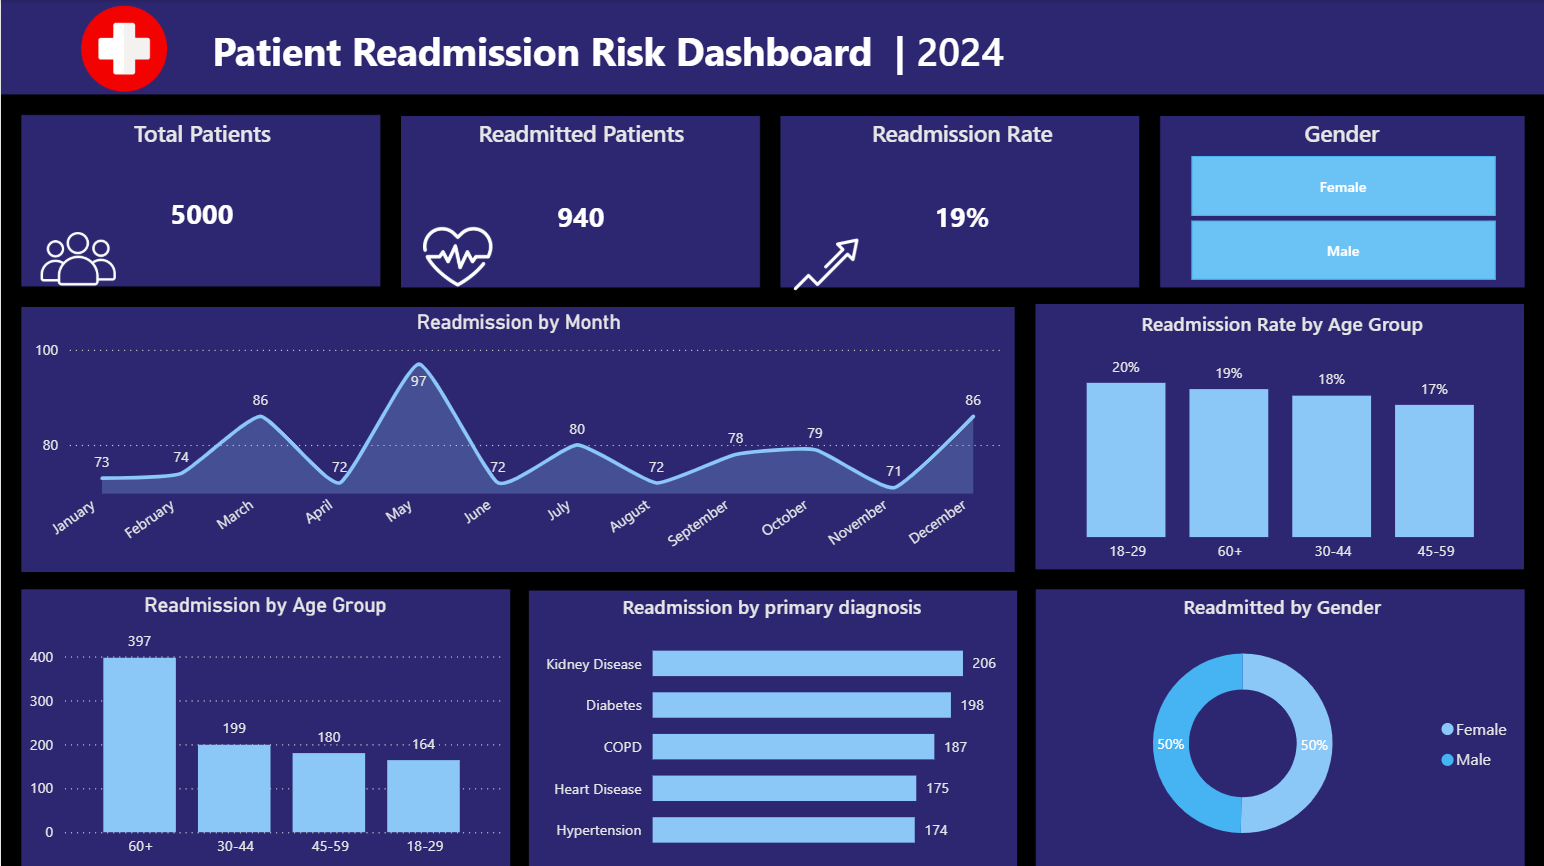

This screenshot's page, from the dashboard's own definition file:
{"tool":"powerbi","page":{"name":"Page 2","canvas":[1280,720],"ordinal":1},"visuals":[{"type":"card","title":"Total Patients","fields":{"Values":["PatientData.Total Patients"]},"box":[18.6,97.6,296.3,141.8],"z":0},{"type":"card","title":"Readmitted Patients","fields":{"Values":["PatientData.Total Readmitted"]},"box":[335.8,97.6,290.5,141.8],"z":1000},{"type":"card","title":"Readmission Rate","fields":{"Values":["PatientData.Readmission Rate"]},"box":[648.4,97.6,296.3,141.8],"z":2000},{"type":"lineChart","title":"Readmission by Month","fields":{"Category":["PatientData.VisitDate.Variation.Date Hierarchy.Month"],"Y":["PatientData.Total Readmitted"]},"box":[20.9,256.8,816.9,218.4],"z":3000},{"type":"clusteredColumnChart","title":"Readmission Rate by Age Group","fields":{"Category":["PatientData.AgeGroup"],"Y":["PatientData.Readmission Rate"]},"box":[861.1,257,402.1,218.7],"z":4000},{"type":"clusteredColumnChart","title":"Readmission by Age Group","fields":{"Category":["PatientData.AgeGroup"],"Y":["PatientData.Total Readmitted"]},"box":[18.6,491.5,400.9,228.9],"z":5000},{"type":"barChart","title":"Readmission by primary diagnosis","fields":{"Category":["PatientData.primary_diagnosis"],"Y":["PatientData.Total Readmitted"]},"box":[440.4,491.5,397.4,227.7],"z":6000},{"type":"donutChart","title":"Readmitted by Gender","fields":{"Category":["PatientData.gender"],"Y":["CountNonNull(PatientData.readmitted)"]},"box":[861,491.5,402,228.9],"z":7000},{"type":"slicer","title":"Gender","fields":{"Values":["PatientData.gender"]},"box":[960.9,97.6,302.1,141.8],"z":8000},{"type":"textbox","box":[138.9,15.5,718.1,64.2],"z":9000},{"type":"image","box":[53.1,0,98.2,81.3],"z":10000},{"type":"image","box":[18.1,187.4,92.6,72.3],"z":11000},{"type":"image","box":[327.5,179.5,101.6,67.7],"z":12000},{"type":"image","box":[648.1,187.4,73.4,63.2],"z":13000}]}

Visuals, with their boxes in screenshot pixels (x1, y1, x2, y2), scaled from the page's 1280x720 canvas onto the 1544x866 screenshot:
"Total Patients" card: {"x1": 22, "y1": 117, "x2": 380, "y2": 288}
"Readmitted Patients" card: {"x1": 405, "y1": 117, "x2": 755, "y2": 288}
"Readmission Rate" card: {"x1": 782, "y1": 117, "x2": 1140, "y2": 288}
"Readmission by Month" lineChart: {"x1": 25, "y1": 309, "x2": 1011, "y2": 572}
"Readmission Rate by Age Group" clusteredColumnChart: {"x1": 1039, "y1": 309, "x2": 1524, "y2": 572}
"Readmission by Age Group" clusteredColumnChart: {"x1": 22, "y1": 591, "x2": 506, "y2": 865}
"Readmission by primary diagnosis" barChart: {"x1": 531, "y1": 591, "x2": 1011, "y2": 865}
"Readmitted by Gender" donutChart: {"x1": 1039, "y1": 591, "x2": 1523, "y2": 865}
"Gender" slicer: {"x1": 1159, "y1": 117, "x2": 1523, "y2": 288}
textbox: {"x1": 168, "y1": 19, "x2": 1034, "y2": 96}
image: {"x1": 64, "y1": 0, "x2": 183, "y2": 98}
image: {"x1": 22, "y1": 225, "x2": 134, "y2": 312}
image: {"x1": 395, "y1": 216, "x2": 518, "y2": 297}
image: {"x1": 782, "y1": 225, "x2": 870, "y2": 301}
